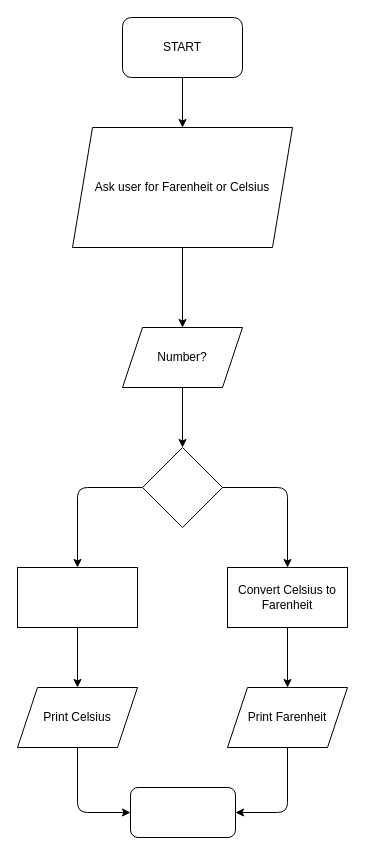
This 365x855 diagram has some shape labels left out. The centre of each missing label's shape, as x and y in pixels:
"Convert Farenheit to Celsius" goes at pixel 77 597.
"FINISH" goes at pixel 183 812.
"ForC?" goes at pixel 182 487.
